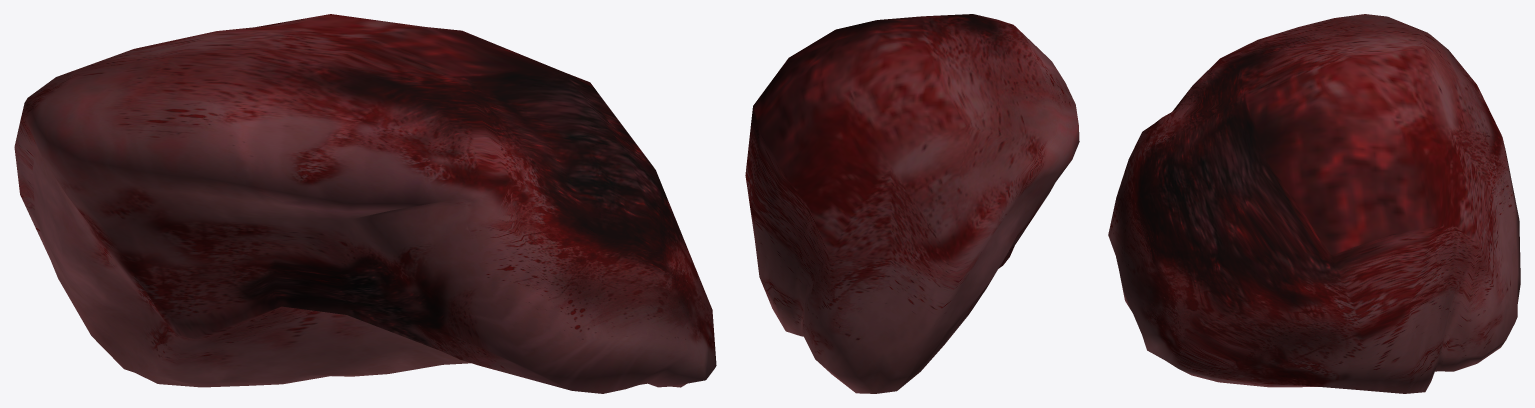
Rendered from Bazo.glb.
The picture shows the model from 3 angles, left to right: view 1: azimuth 30°, elevation 25°; view 2: azimuth 150°, elevation 25°; view 3: azimuth 270°, elevation 25°; orthographic projection. The views are drawn at different scales.
Visible parts, largest first — view 1: Lymphatic_Spleen_Geo_Lymphatic_Spleen_mat_0; view 2: Lymphatic_Spleen_Geo_Lymphatic_Spleen_mat_0; view 3: Lymphatic_Spleen_Geo_Lymphatic_Spleen_mat_0.
Boxes of the visible parts, <box> form: Lymphatic_Spleen_Geo_Lymphatic_Spleen_mat_0: <box>14,14,716,393</box>; Lymphatic_Spleen_Geo_Lymphatic_Spleen_mat_0: <box>745,14,1079,393</box>; Lymphatic_Spleen_Geo_Lymphatic_Spleen_mat_0: <box>1108,14,1520,393</box>.
Bounding box in the file's own units: 0.9368 × 0.7218 × 0.9318.
Materials: 1 (1 with a texture image).
